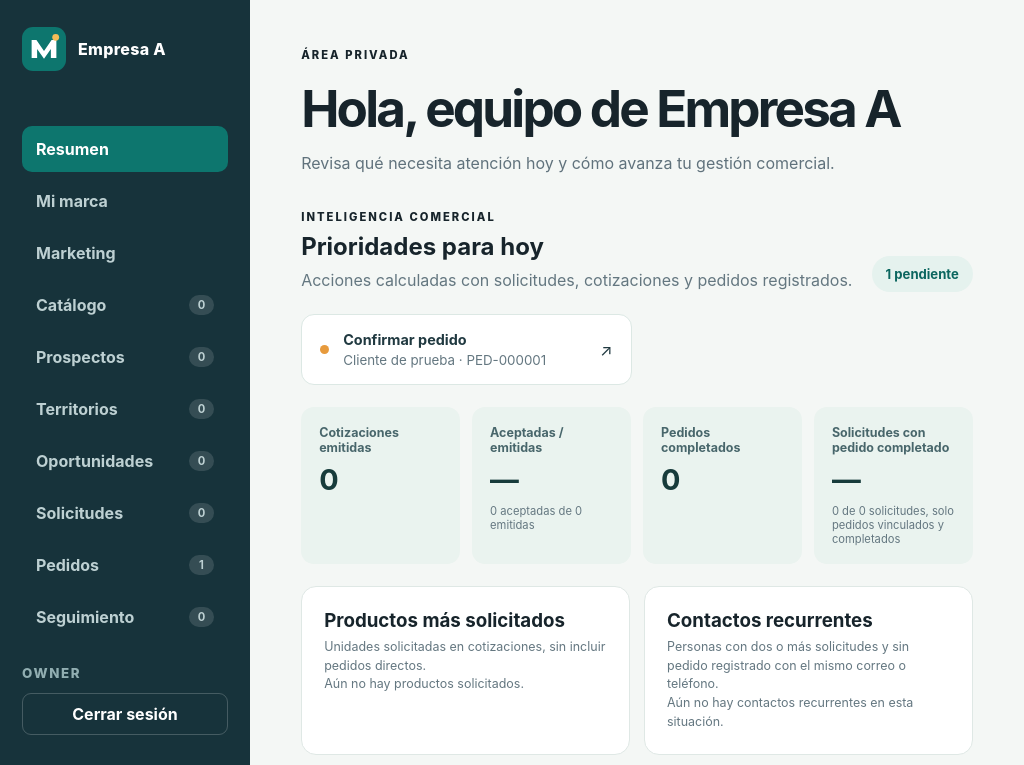
Test case: multi-tenant application routes › shows a tenant order in /app and lets the owner confirm it
The width and height of the screenshot is (1024, 765).
Click the button "Pedidos 1" at (125, 565), box [22, 542, 228, 588]
(page scrolled)
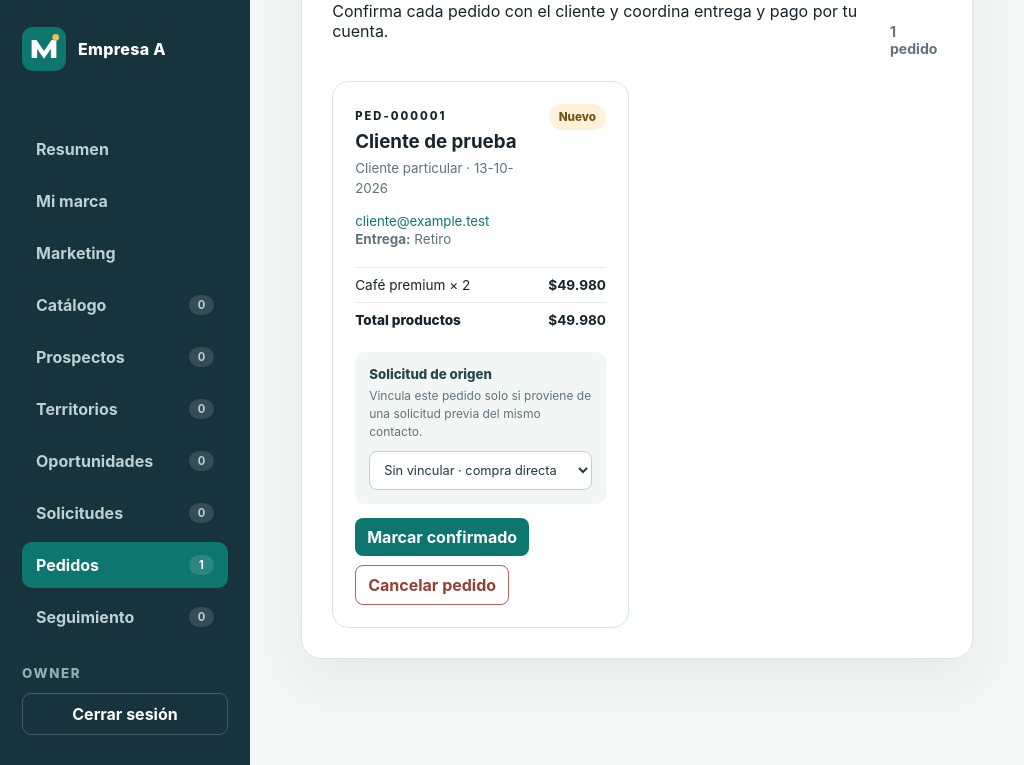
Expected: the text "PED-000001" is shown, [355, 109, 446, 123]
Result: the text "$49.980" is shown 2 times at [548, 277, 606, 293]; [548, 312, 606, 328]
Click the button "Marcar confirmado" at (442, 537), box [355, 518, 529, 556]
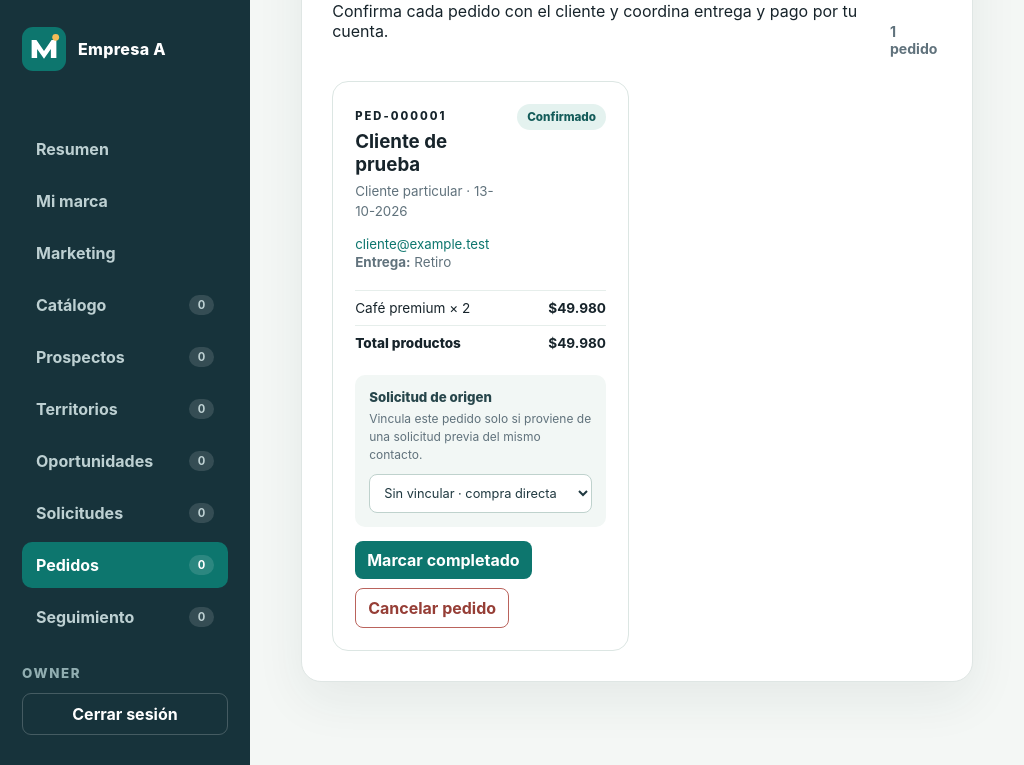
Result: the button "Marcar completado" is shown at [355, 541, 532, 579]
